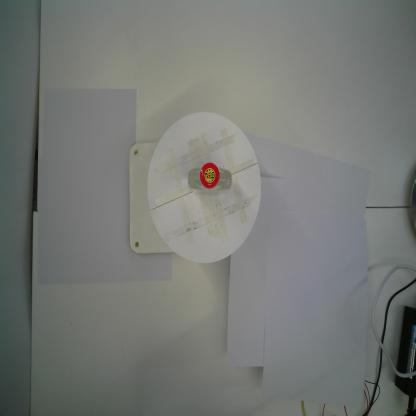Alcohol: (183, 160, 235, 193)
